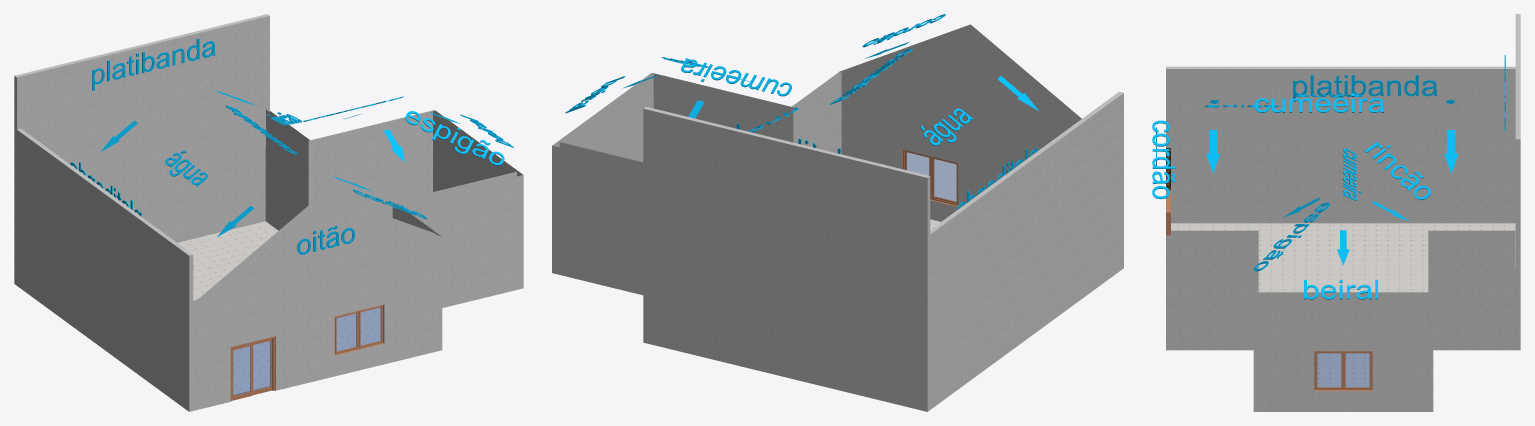
Rendered from casaa.glb.
3 views of the same model, side by side, from view 1: azimuth 30°, elevation 25°; view 2: azimuth 150°, elevation 25°; view 3: azimuth 270°, elevation 25° (orthographic). The views are drawn at different scales.
Parts seen in each view (by area): view 1: object 4, root, object 2, object 3; view 2: object 4, root, object 2, object 3; view 3: object 4, root, object 2, object 3.
Part boxes in pixels (x1,y1,x2,y2): object 4: (14,14,523,411); root: (70,38,513,394); object 2: (233,307,380,395); object 3: (230,304,384,401); object 4: (552,24,1123,411); root: (565,14,1039,229); object 2: (906,152,956,201); object 3: (902,149,957,206); object 4: (1166,14,1520,411); root: (1152,55,1515,387); object 2: (1317,353,1369,387); object 3: (1166,190,1372,390).
Bounding box in the file's own units: 15.8 × 8 × 12.65.
7 materials, 4 textured.
